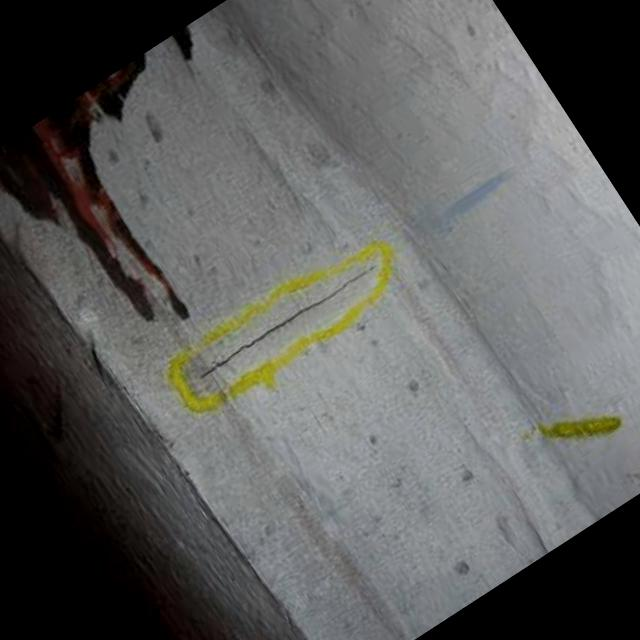defect: (198, 259, 386, 379)
